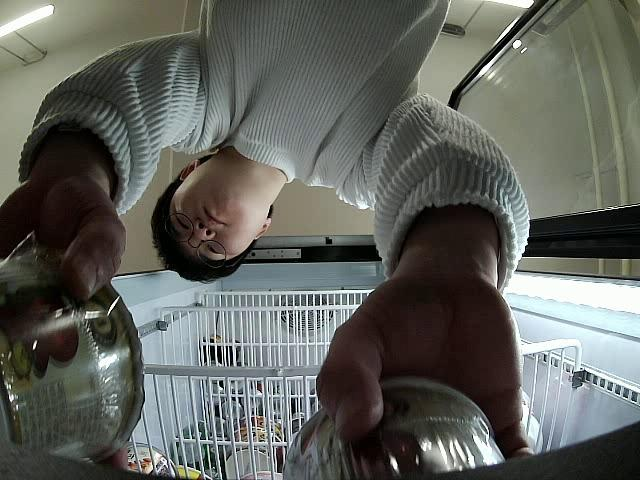00_hand: (314, 278, 530, 459), (0, 172, 124, 294)
04_chapagetti_S: (0, 250, 146, 462), (284, 381, 506, 480)
